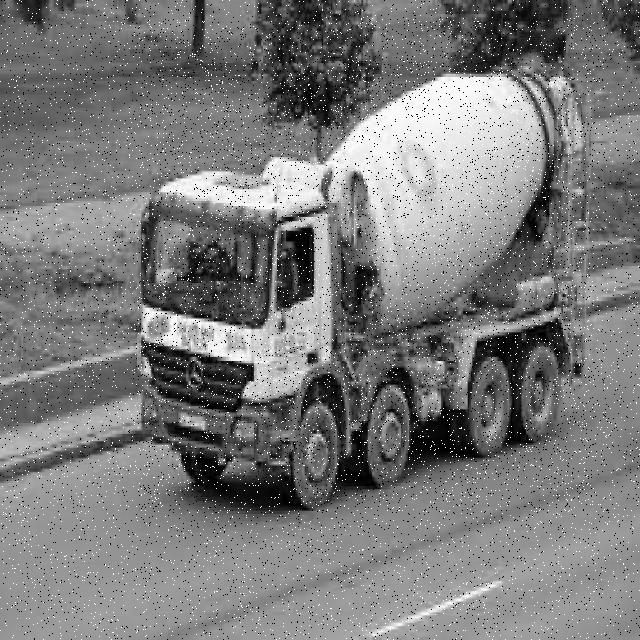Concrete Mixer: (137, 21, 594, 511)
